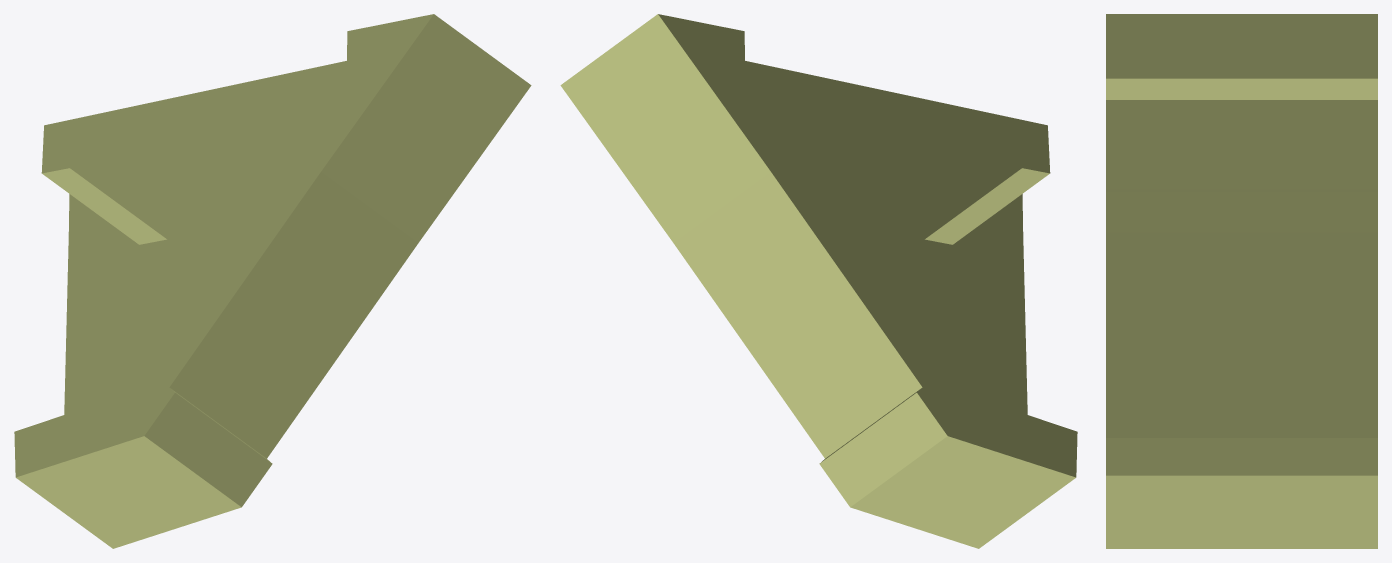
3 renders of one model, left to right at view 1: azimuth 30°, elevation 25°; view 2: azimuth 150°, elevation 25°; view 3: azimuth 270°, elevation 25°, orthographic. The views are drawn at different scales.
Parts seen in each view (by area): view 1: 0_1_3_2_2_1_2_0_0; view 2: 0_1_3_2_2_1_2_0_0; view 3: 0_1_3_2_2_1_2_0_0.
Boxes of the visible parts, bbox=[...] form: 0_1_3_2_2_1_2_0_0: bbox=[14, 14, 531, 548]; 0_1_3_2_2_1_2_0_0: bbox=[560, 14, 1077, 548]; 0_1_3_2_2_1_2_0_0: bbox=[1106, 14, 1377, 548].
Bounding box in the file's own units: 22.36 × 18.61 × 9.
